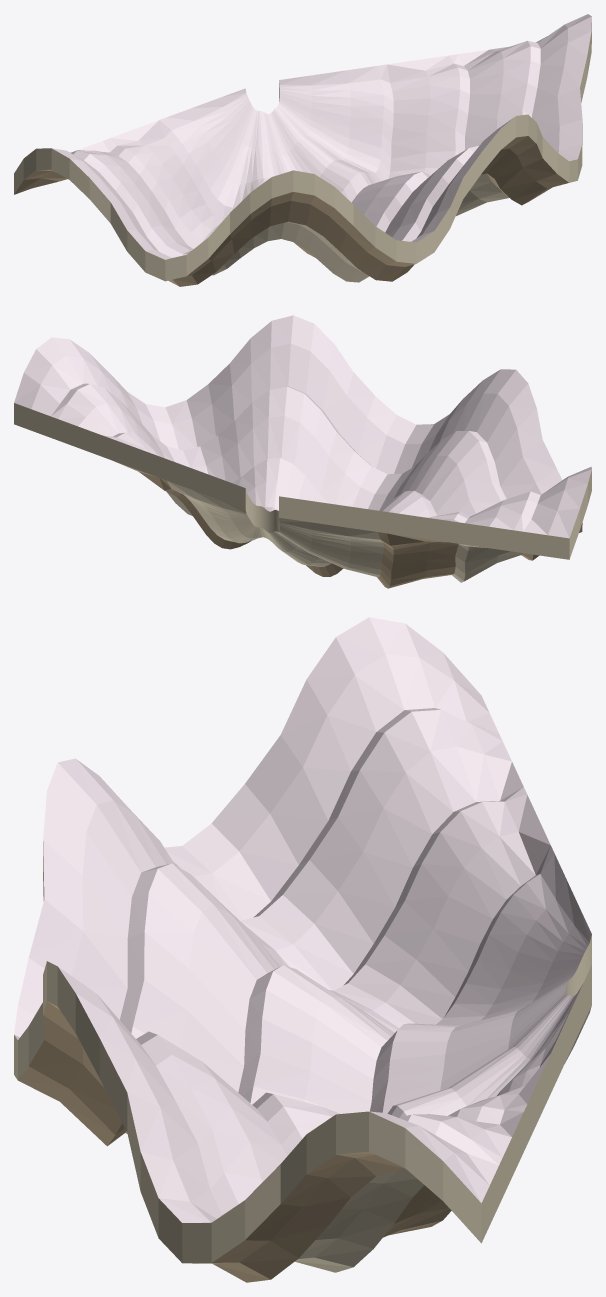
Rendered from ClamBase.obj.
3 views of the same model, one above another, from view 1: azimuth 30°, elevation 25°; view 2: azimuth 150°, elevation 25°; view 3: azimuth 270°, elevation 25° (orthographic). The views are drawn at different scales.
Visible parts, largest first — view 1: ClamBase; view 2: ClamBase; view 3: ClamBase.
Part boxes in pixels (<box>): ClamBase: <box>14,14,591,286</box>; ClamBase: <box>14,315,591,588</box>; ClamBase: <box>14,617,591,1282</box>.
Size of the model in its own units: 0.7052 by 0.2118 by 0.3387.
